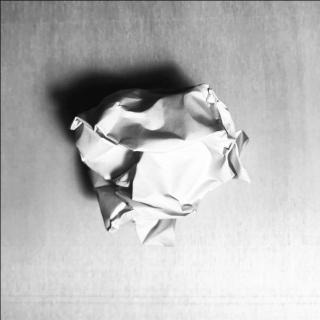Anorganik: (59, 86, 252, 251)
